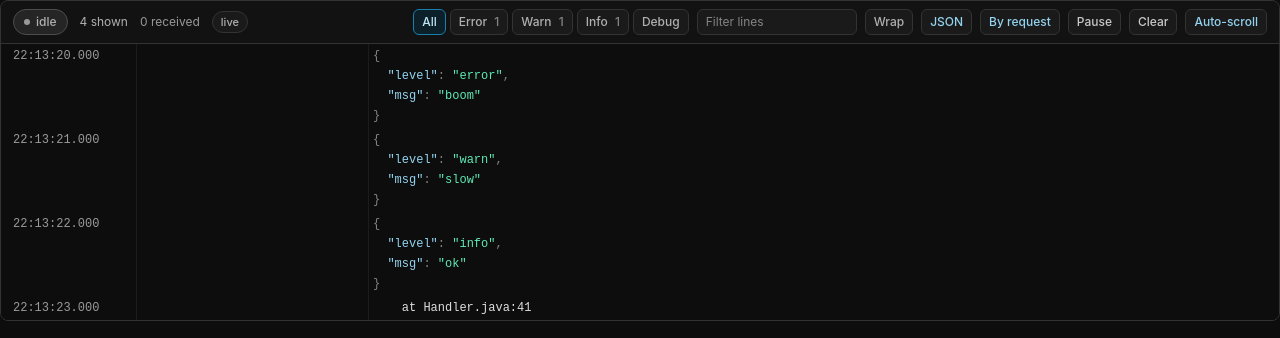
Test case: LogViewer level filter › leaves unclassified lines out of a level filter, and back in with All
Click the button with test id "level-warn" at (542, 22), box [512, 9, 573, 35]
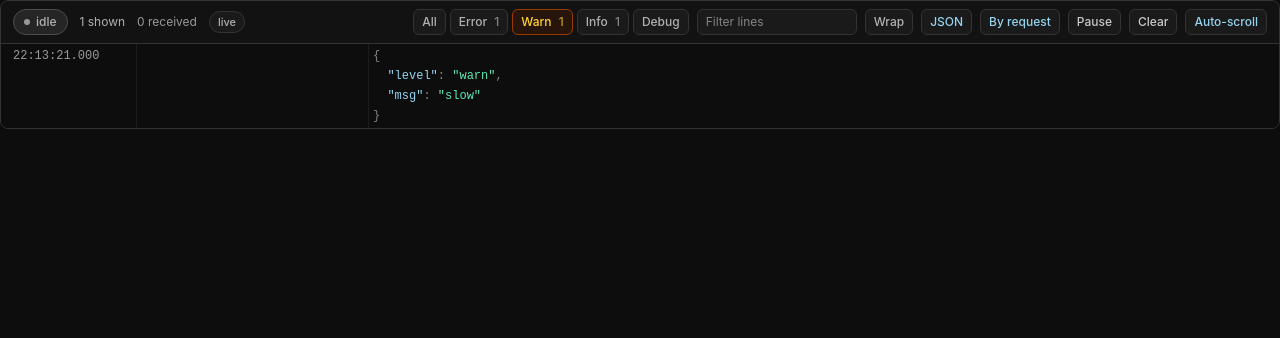
Now the text "Handler.java" is gone
Click the button with test id "level-all" at (430, 22), box [413, 9, 446, 35]
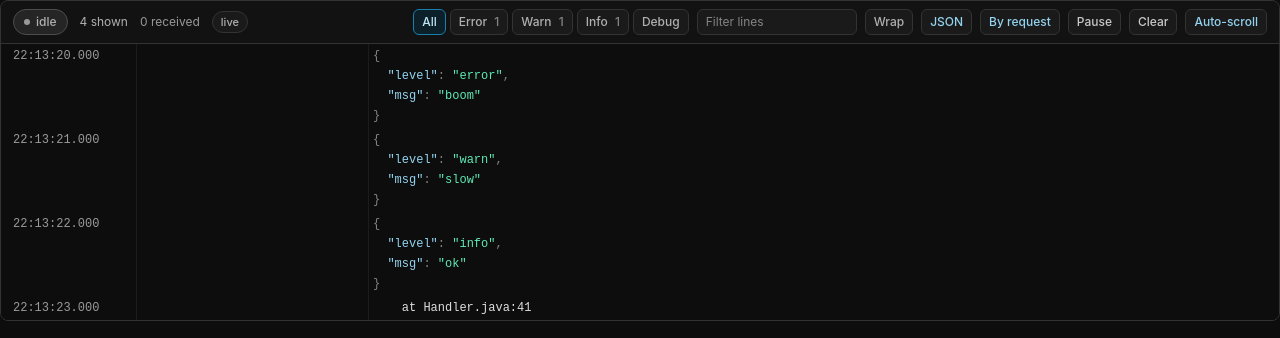
Now the number of list items with test id "log-line" is 4, box [13, 49, 510, 123]; [13, 133, 503, 207]; [13, 217, 503, 291]; [13, 301, 531, 315]
